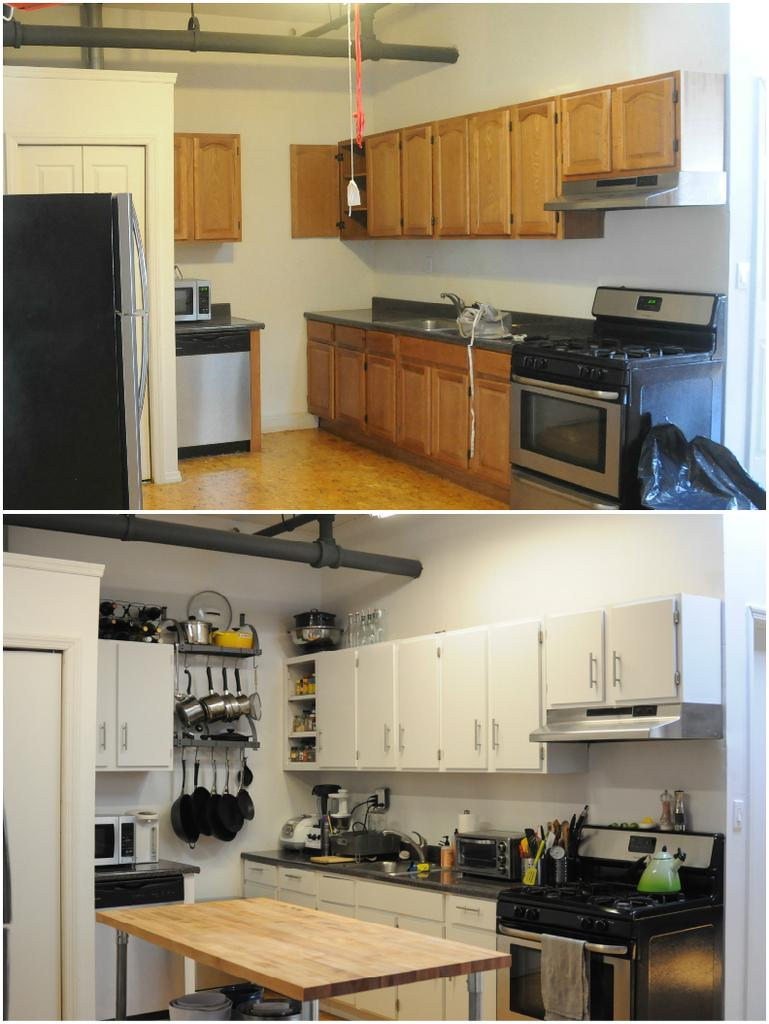cabinet_door: (487, 636, 536, 771), (117, 648, 172, 764), (604, 612, 678, 696), (608, 81, 679, 162), (437, 648, 486, 760), (310, 653, 358, 764), (287, 145, 339, 242), (510, 111, 554, 225), (397, 643, 436, 765), (195, 140, 242, 238), (466, 125, 508, 232), (551, 623, 603, 707), (466, 384, 511, 479), (562, 98, 612, 182), (356, 651, 394, 761), (400, 136, 436, 238), (432, 128, 468, 230), (364, 144, 404, 234), (398, 352, 430, 460), (433, 368, 466, 470), (366, 354, 398, 446), (94, 640, 116, 767), (170, 131, 195, 239), (336, 344, 366, 434), (446, 889, 500, 930), (307, 338, 333, 420), (279, 869, 311, 889), (246, 860, 276, 880)
handle: (516, 367, 618, 414), (125, 190, 148, 312), (127, 316, 150, 421), (454, 896, 486, 922), (98, 718, 113, 752), (489, 714, 501, 750), (610, 652, 622, 688), (395, 718, 408, 750), (587, 652, 598, 686), (470, 725, 484, 751), (284, 870, 304, 888), (118, 722, 130, 750), (381, 724, 393, 751), (248, 866, 264, 878)
